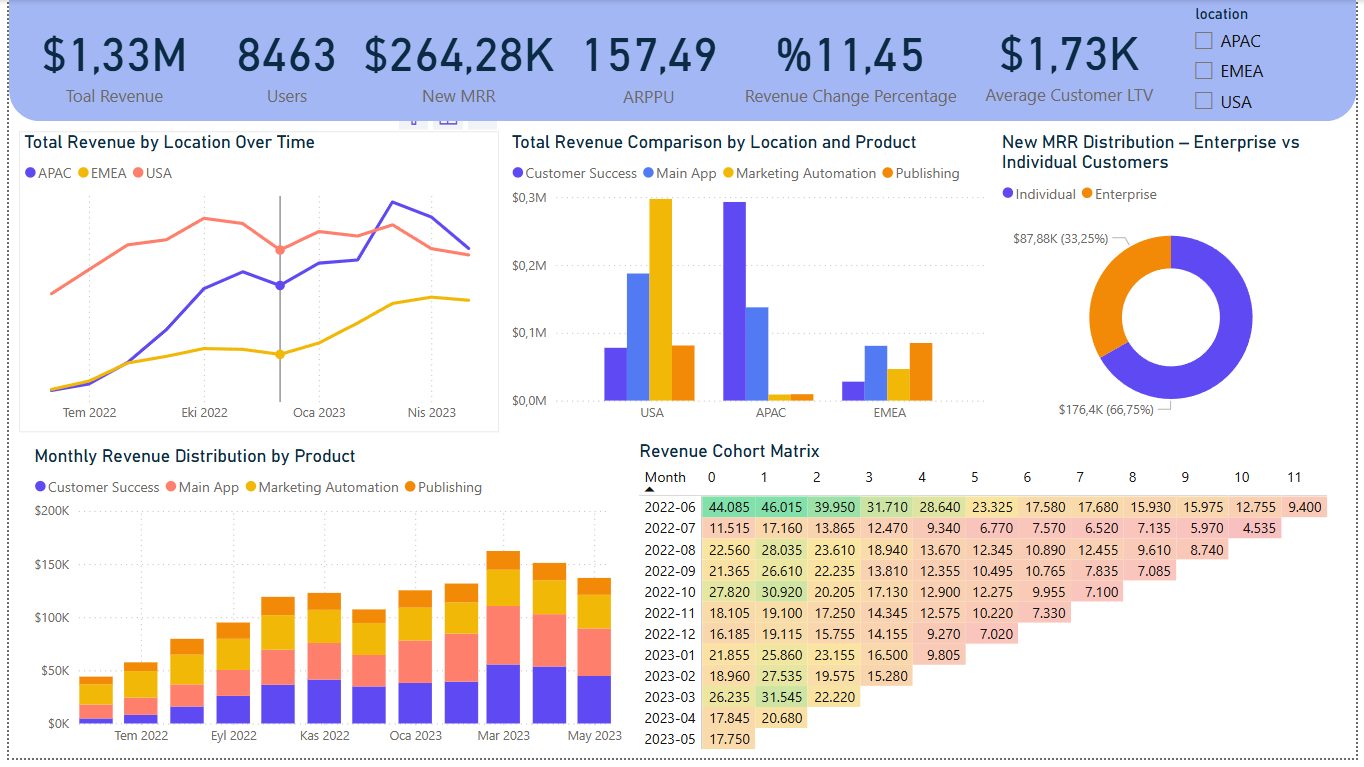

Layout of this report page (visuals, bound fields, positions):
{"tool":"powerbi","page":{"name":"Page 1","canvas":[1280,720],"ordinal":0},"visuals":[{"type":"columnChart","title":"Monthly Revenue Distribution by Product","fields":{"Category":["saas_revenue.DateYearMonth"],"Series":["saas_revenue.software_name"],"Y":["Sum(saas_revenue.revenue_amount)"]},"box":[0,425,570,295],"z":0},{"type":"lineChart","title":"Total Revenue by Location Over Time","fields":{"Category":["saas_revenue.DateYearMonth"],"Series":["saas_revenue.location"],"Y":["Sum(saas_revenue.revenue_amount)"]},"box":[348.1,120,456.2,290],"z":1000},{"type":"pivotTable","title":"Revenue Cohort Matrix","fields":{"Columns":["saas_revenue.MonthsSinceCohort_colon"],"Values":["saas_revenue.Cohort Revenue"],"Rows":["saas_revenue.CohortMonth"]},"box":[578.8,411.2,701.2,308.8],"z":2000},{"type":"donutChart","title":"New MRR Distribution – Enterprise vs Individual Customers","fields":{"Y":["saas_revenue.New_MRR"],"Category":["saas_revenue.Customer_Type"]},"box":[0,125,332.5,286.2],"z":3000},{"type":"clusteredColumnChart","title":"Total Revenue Comparison by Location and Product","fields":{"Category":["saas_revenue.location"],"Series":["saas_revenue.software_name"],"Y":["Sum(saas_revenue.revenue_amount)"]},"box":[820,120,460,300],"z":4000},{"type":"shape","box":[0,0,1280,115.2],"z":5000},{"type":"card","fields":{"Values":["Count(saas_revenue.user_id)"]},"box":[181.9,0,110.4,115.2],"z":6000},{"type":"card","fields":{"Values":["saas_revenue.ARPPU"]},"box":[520.8,1.2,147.2,114],"z":7000},{"type":"card","fields":{"Values":["Sum(saas_revenue.revenue_amount)"]},"box":[10.7,0,155.5,115.2],"z":8000},{"type":"card","fields":{"Values":["saas_revenue.New_MRR"]},"box":[308,0,197.1,115.2],"z":9000},{"type":"card","fields":{"Values":["saas_revenue.Revenue Change %"]},"box":[683.8,0,217.3,115.2],"z":10000},{"type":"card","title":"Customer Lifetime Value Change & Trends","fields":{"Values":["saas_revenue.LTV"]},"box":[916.8,0,181.4,114.3],"z":11000},{"type":"slicer","fields":{"Values":["saas_revenue.location"]},"box":[1113.9,0,157.9,115.2],"z":12000}]}

Visuals, with their boxes in screenshot pixels (x1, y1, x2, y2), scaled from the page's 1280x720 canvas onto the 1364x767 screenshot:
"Monthly Revenue Distribution by Product" columnChart: [left=0, top=453, right=607, bottom=766]
"Total Revenue by Location Over Time" lineChart: [left=371, top=128, right=857, bottom=437]
"Revenue Cohort Matrix" pivotTable: [left=617, top=438, right=1363, bottom=766]
"New MRR Distribution – Enterprise vs Individual Customers" donutChart: [left=0, top=133, right=354, bottom=438]
"Total Revenue Comparison by Location and Product" clusteredColumnChart: [left=874, top=128, right=1363, bottom=447]
shape: [left=0, top=0, right=1363, bottom=123]
card - Count(saas_revenue.user_id): [left=194, top=0, right=311, bottom=123]
card - saas_revenue.ARPPU: [left=555, top=1, right=712, bottom=123]
card - Sum(saas_revenue.revenue_amount): [left=11, top=0, right=177, bottom=123]
card - saas_revenue.New_MRR: [left=328, top=0, right=538, bottom=123]
card - saas_revenue.Revenue Change %: [left=729, top=0, right=960, bottom=123]
"Customer Lifetime Value Change & Trends" card: [left=977, top=0, right=1170, bottom=122]
slicer - saas_revenue.location: [left=1187, top=0, right=1355, bottom=123]
